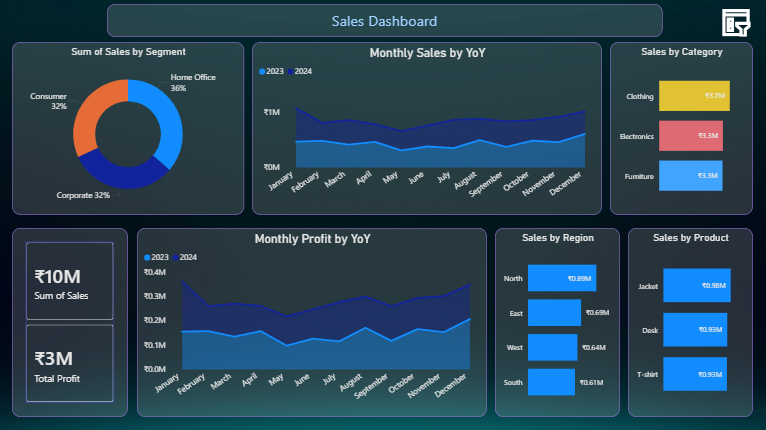

What the dashboard file says about the page in this screenshot:
{"tool":"powerbi","page":{"name":"Page 1","canvas":[1280,720],"ordinal":0},"visuals":[{"type":"clusteredBarChart","title":"Sales by Category","fields":{"Category":["Ecommerce Data.Category"],"Y":["Sum(Ecommerce Data.Revenue)"]},"box":[1018,71.7,238.3,288.3],"z":0},{"type":"clusteredBarChart","title":"Sales by Product","fields":{"Category":["Ecommerce Data.Product"],"Y":["Sum(Ecommerce Data.Revenue)"]},"box":[1048,381.7,208.3,315],"z":1000},{"type":"clusteredBarChart","title":"Sales by Region","fields":{"Category":["Ecommerce Data.Region"],"Y":["Sum(Ecommerce Data.Revenue)"]},"box":[826.3,381.7,208.3,315],"z":2000},{"type":"stackedAreaChart","title":"Monthly Sales by YoY","fields":{"Category":["Ecommerce Data.Order_Date.Variation.Date Hierarchy.Month"],"Y":["Sum(Ecommerce Data.Sales)"],"Series":["Ecommerce Data.Order_Date.Variation.Date Hierarchy.Year"]},"box":[421.3,71.7,583.3,288.3],"z":3000},{"type":"stackedAreaChart","title":"Monthly Profit by YoY","fields":{"Category":["Ecommerce Data.Order_Date.Variation.Date Hierarchy.Month"],"Series":["Ecommerce Data.Order_Date.Variation.Date Hierarchy.Year"],"Y":["Sum(Ecommerce Data.Profit )"]},"box":[229.7,381.7,583.3,315],"z":4000},{"type":"donutChart","fields":{"Category":["Ecommerce Data.Segment"],"Y":["Sum(Ecommerce Data.Sales)"]},"box":[21.7,71.7,386.7,288.3],"z":5000},{"type":"cardVisual","fields":{"Data":["Sum(Ecommerce Data.Sales)","Ecommerce Data.Total Profit"]},"box":[21.7,381.7,193.3,315],"z":6000},{"type":"actionButton","box":[1192.3,12.3,64.6,55.4],"z":8000},{"type":"textbox","box":[180,7.7,926.2,55.4],"z":9000}]}

Visuals, with their boxes in screenshot pixels (x1, y1, x2, y2), scaled from the page's 1280x720 canvas onto the 766x430 screenshot:
"Sales by Category" clusteredBarChart: [left=609, top=43, right=752, bottom=215]
"Sales by Product" clusteredBarChart: [left=627, top=228, right=752, bottom=416]
"Sales by Region" clusteredBarChart: [left=494, top=228, right=619, bottom=416]
"Monthly Sales by YoY" stackedAreaChart: [left=252, top=43, right=601, bottom=215]
"Monthly Profit by YoY" stackedAreaChart: [left=137, top=228, right=487, bottom=416]
donutChart - Ecommerce Data.Segment x Sum(Ecommerce Data.Sales): [left=13, top=43, right=244, bottom=215]
cardVisual - Sum(Ecommerce Data.Sales) x Ecommerce Data.Total Profit: [left=13, top=228, right=129, bottom=416]
actionButton: [left=714, top=7, right=752, bottom=40]
textbox: [left=108, top=5, right=662, bottom=38]
